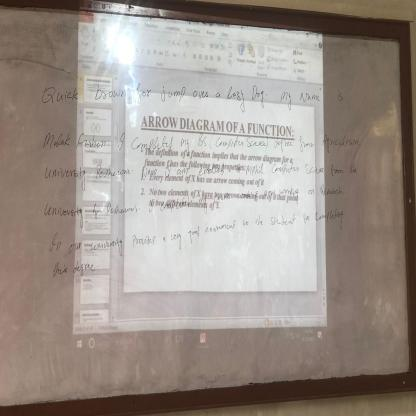Handwritten text: (42, 187, 350, 264), (33, 167, 347, 225), (40, 73, 348, 123), (38, 119, 369, 161), (39, 148, 364, 190), (44, 259, 100, 284)
Whiteboard: (0, 2, 411, 416)
